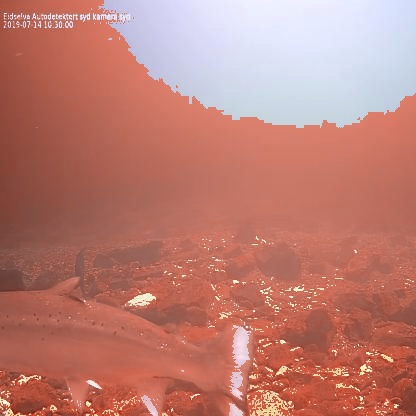salmon: (0, 273, 258, 415)
